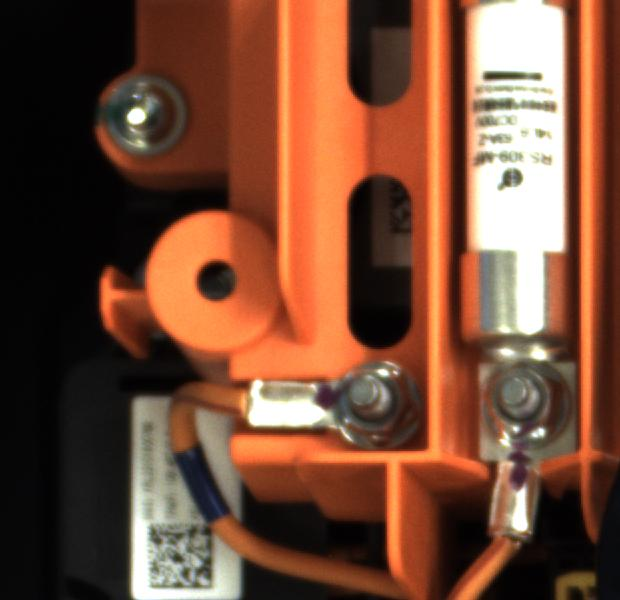screw_m: (93, 68, 204, 163)
screw_s: (466, 348, 577, 453), (328, 356, 426, 450)
